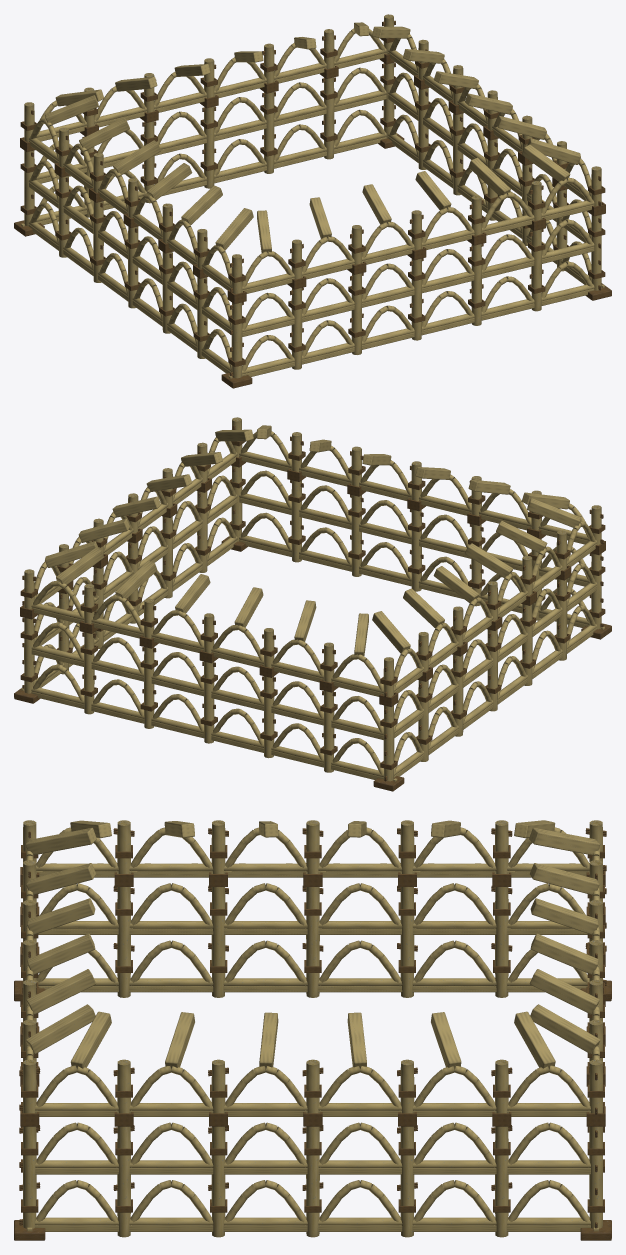
The picture shows the model from 3 angles, top to bottom: view 1: azimuth 30°, elevation 25°; view 2: azimuth 150°, elevation 25°; view 3: azimuth 270°, elevation 25°; orthographic projection. The views are drawn at different scales.
Visible parts, largest first — view 1: Tier 0 side 2 post 3, Tier 0 side 0 post 5, Tier 0 side 2 post 2, Tier 0 side 2 post 1, Tier 0 side 0 post 3, Tier 0 side 0 post 4, Tier 0 side 0 post 2, Tier 0 side 0 post 0, Tier 0 side 0 post 1, Crown petal 0-5, Crown petal 3-0, Crown petal 3-1 (+22 smaller); view 2: Tier 0 side 0 post 3, Tier 0 side 0 post 4, Tier 0 side 2 post 1, Tier 0 side 0 post 5, Tier 0 side 2 post 3, Crown petal 3-5, Tier 0 side 2 post 2, Tier 0 side 2 post 5, Tier 0 side 2 post 4, Crown petal 2-0, Tier 0 side 3 post 0, Crown petal 3-4 (+22 smaller); view 3: Tier 0 side 1 post 4, Crown petal 2-0, Tier 0 side 1 post 2, Tier 0 side 1 post 3, Tier 0 side 3 post 2, Tier 0 side 3 post 3, Tier 0 side 1 post 5, Tier 0 side 3 post 4, Tier 0 side 1 post 1, Tier 0 side 3 post 1, Tier 0 side 3 post 5, Crown petal 0-5 (+78 smaller).
Boxes of the visible parts, x1,y1,x2,y2 form: Tier 0 side 2 post 3: [204, 106, 214, 188]; Tier 0 side 0 post 5: [531, 229, 541, 311]; Tier 0 side 2 post 2: [264, 92, 274, 173]; Tier 0 side 2 post 1: [323, 77, 334, 159]; Tier 0 side 0 post 3: [411, 258, 421, 340]; Tier 0 side 0 post 4: [471, 244, 481, 325]; Tier 0 side 0 post 2: [351, 273, 361, 354]; Tier 0 side 0 post 0: [231, 302, 242, 378]; Tier 0 side 0 post 1: [291, 288, 302, 369]; Crown petal 0-5: [522, 144, 570, 181]; Crown petal 3-0: [45, 95, 98, 124]; Crown petal 3-1: [79, 117, 129, 149]; Tier 0 side 0 post 3: [411, 509, 421, 591]; Tier 0 side 0 post 4: [351, 495, 361, 576]; Tier 0 side 2 post 1: [84, 632, 94, 714]; Tier 0 side 0 post 5: [291, 480, 301, 562]; Tier 0 side 2 post 3: [204, 661, 214, 743]; Crown petal 3-5: [527, 498, 580, 527]; Tier 0 side 2 post 2: [144, 647, 154, 728]; Tier 0 side 2 post 5: [323, 691, 334, 772]; Tier 0 side 2 post 4: [264, 676, 274, 758]; Crown petal 2-0: [56, 547, 103, 584]; Tier 0 side 3 post 0: [383, 705, 394, 781]; Crown petal 3-4: [496, 520, 547, 552]; Tier 0 side 1 post 4: [400, 1126, 414, 1237]; Crown petal 2-0: [530, 1004, 600, 1054]; Tier 0 side 1 post 2: [211, 1126, 225, 1237]; Tier 0 side 1 post 3: [306, 1126, 319, 1237]; Tier 0 side 3 post 2: [400, 887, 414, 997]; Tier 0 side 3 post 3: [306, 887, 319, 997]; Tier 0 side 1 post 5: [495, 1126, 508, 1237]; Tier 0 side 3 post 4: [211, 887, 225, 997]; Tier 0 side 1 post 1: [117, 1126, 130, 1237]; Tier 0 side 3 post 1: [495, 887, 508, 997]; Tier 0 side 3 post 5: [117, 887, 130, 997]; Crown petal 0-5: [25, 1004, 95, 1054].
Size of the model in its own units: 2.85 by 1.03 by 2.85.
2 materials, 2 textured.
